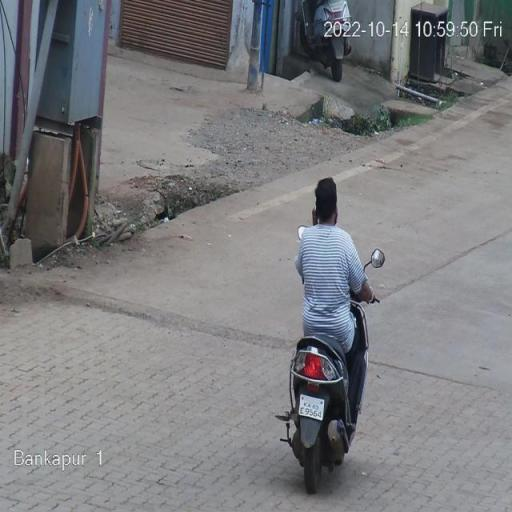using mobile: (308, 198, 320, 224)
